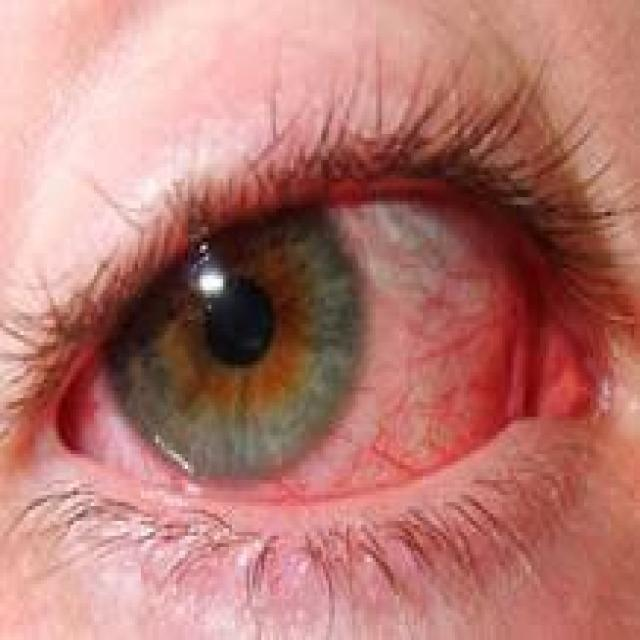Conjunctivitis: (50, 210, 617, 509)
